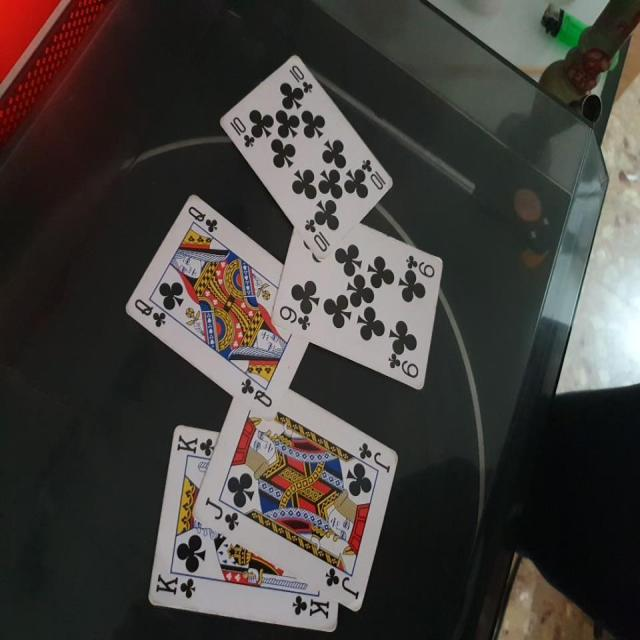10 Trefoils: (219, 53, 394, 264)
9 Trefoils: (269, 216, 444, 391)
J Trefoils: (190, 387, 398, 612)
K Trefoils: (147, 423, 340, 636)
Q Trefoils: (123, 193, 310, 420)
